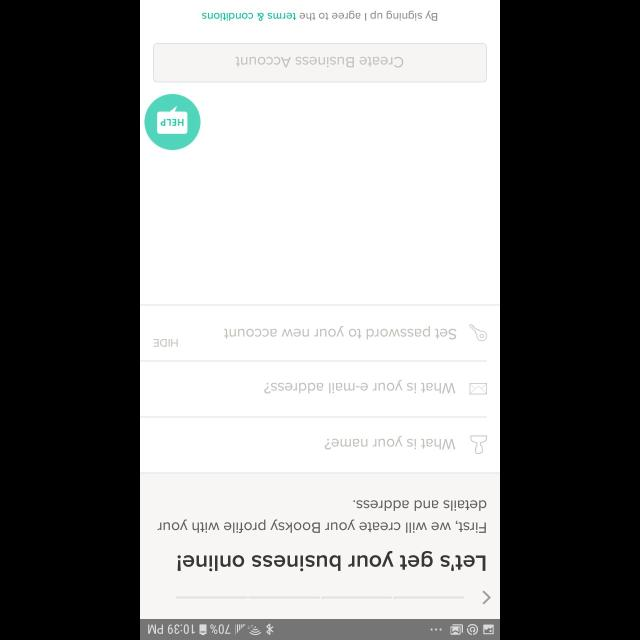icon: (144, 94, 200, 150), (469, 434, 486, 454), (469, 382, 487, 394), (482, 590, 491, 604)
image: (469, 324, 487, 342)
text: (158, 500, 487, 532), (177, 550, 485, 572), (224, 325, 456, 339), (202, 10, 438, 22), (264, 379, 456, 393), (324, 435, 456, 449), (154, 339, 178, 347)
textbutton: (153, 42, 487, 82)
uppertaskbar: (140, 618, 500, 640)
